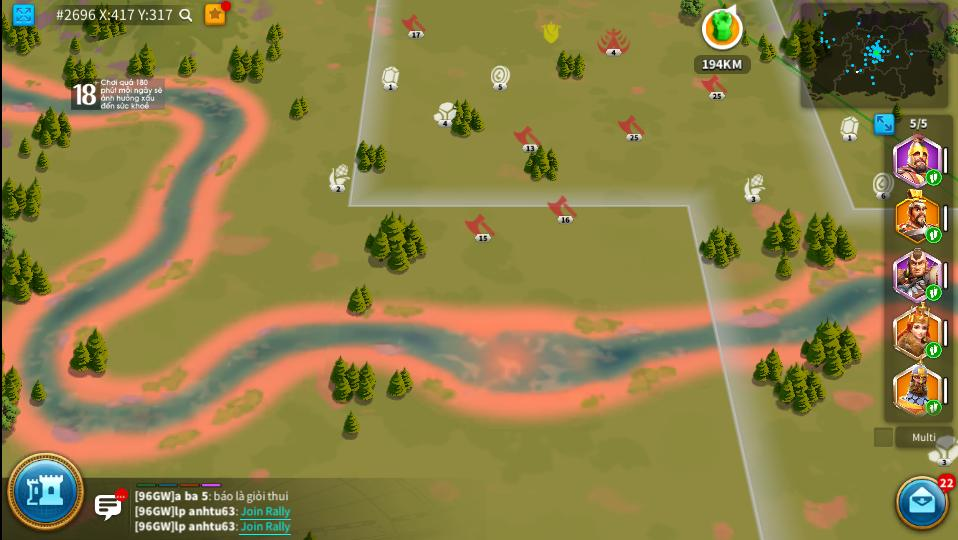gem-z-out: (840, 115, 858, 143), (382, 66, 400, 92)
march_marching: (925, 228, 942, 242), (926, 170, 940, 185), (927, 400, 941, 415), (926, 285, 940, 299), (928, 343, 940, 357)
